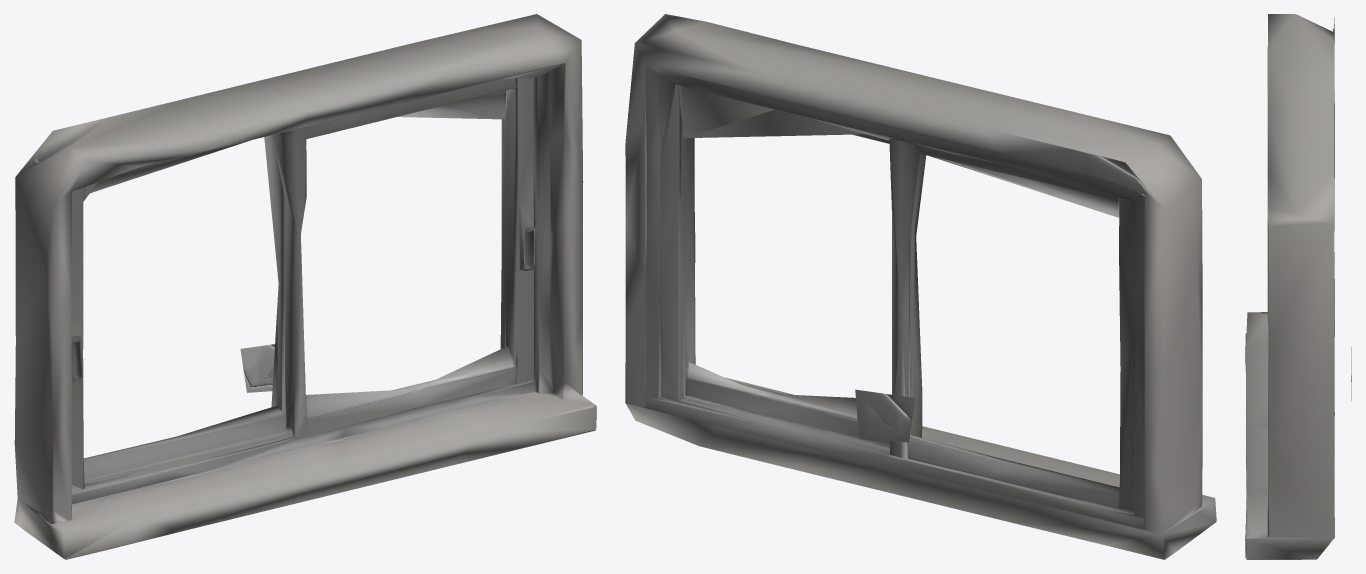
File: ENV_WINDOW_v001_RAW.glb.glb
3 renders of one model, left to right at view 1: azimuth 30°, elevation 25°; view 2: azimuth 150°, elevation 25°; view 3: azimuth 270°, elevation 25°, orthographic. The views are drawn at different scales.
Parts seen in each view (by area): view 1: tripo_node_a95d5b78-9ba7-44b9-8820-996b44fa2042; view 2: tripo_node_a95d5b78-9ba7-44b9-8820-996b44fa2042; view 3: tripo_node_a95d5b78-9ba7-44b9-8820-996b44fa2042.
Part boxes in pixels (<box>): tripo_node_a95d5b78-9ba7-44b9-8820-996b44fa2042: <box>14,14,596,559</box>; tripo_node_a95d5b78-9ba7-44b9-8820-996b44fa2042: <box>625,14,1216,559</box>; tripo_node_a95d5b78-9ba7-44b9-8820-996b44fa2042: <box>1245,14,1351,559</box>.
Size of the model in its own units: 0.9785 by 0.6731 by 0.1938.
1 material, 1 textured.
